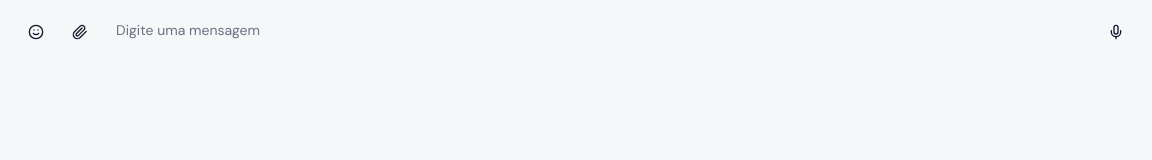
Scenario: BarraDigitacao + nota de voz › gravando esconde o campo; enviar manda anexo de áudio com voz=true e sem legenda
Expected: the text box labelled "mensagem" is shown, [104,10,1092,50]
Press the mouse on the button named "Gravar áudio": [1116, 32] box [1096,12,1136,52]
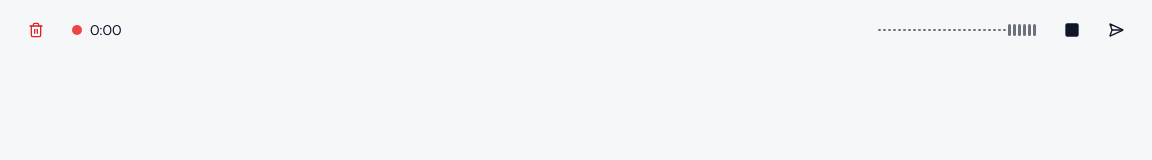
Expected: the element with test id "gravador-ativo" is shown, [16,8,1136,52]
Expected: the text box labelled "Mensagem" is gone
Click the button named "Enviar áudio": [1116, 30] box [1096,10,1136,50]
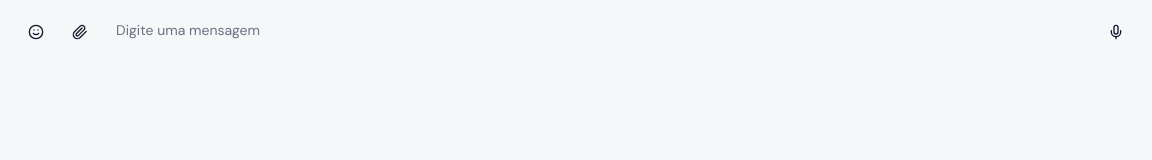
Expected: the text box labelled "mensagem" is shown, [104,10,1092,50]
